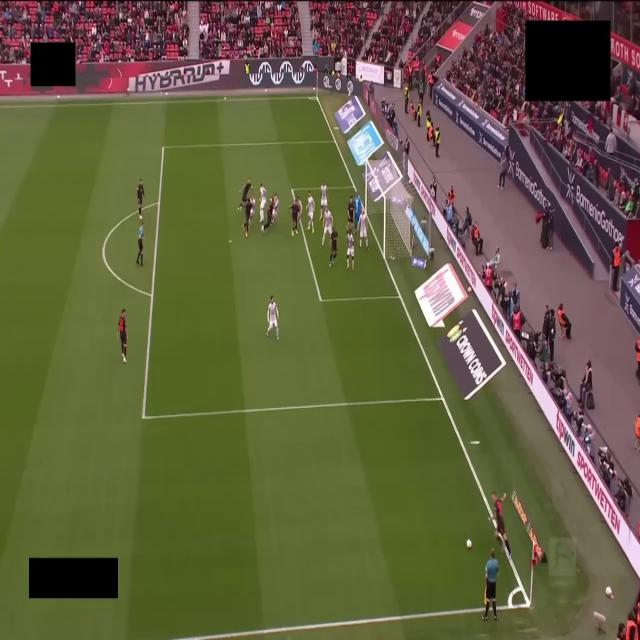ball: (467, 540, 471, 549)
player: (492, 492, 511, 558), (267, 296, 278, 339), (118, 309, 126, 362), (238, 179, 252, 209), (261, 198, 273, 232), (358, 209, 368, 249), (322, 208, 332, 247), (290, 198, 300, 236), (346, 230, 354, 271), (330, 228, 338, 266), (243, 200, 251, 238), (137, 179, 144, 219), (355, 192, 362, 227), (308, 192, 314, 232), (260, 184, 266, 223), (348, 196, 354, 232), (272, 193, 279, 223), (249, 197, 255, 223), (321, 183, 327, 207)
referee: (137, 221, 144, 266)
